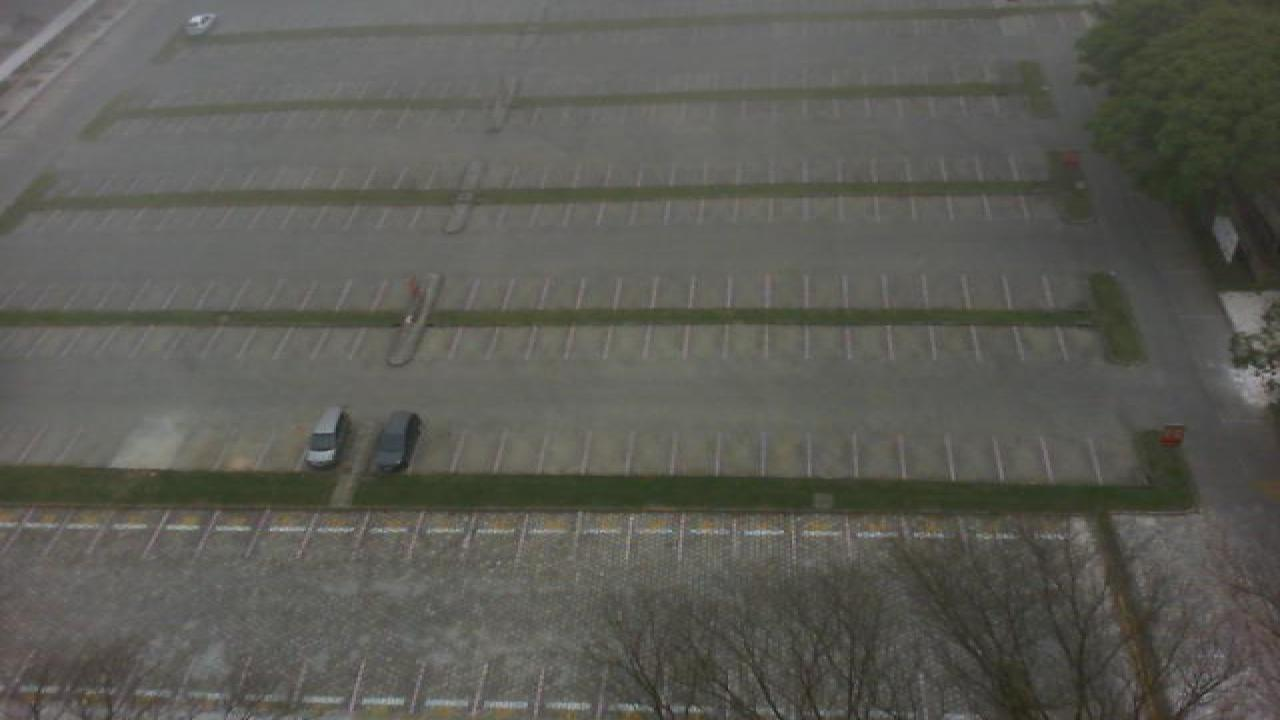Car: (300, 405, 348, 470), (374, 410, 422, 474), (184, 12, 218, 35)
